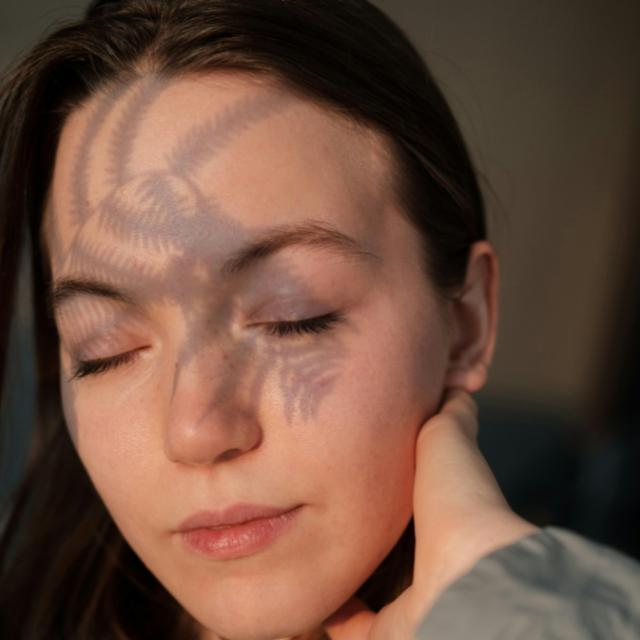close: (220, 210, 388, 362), (43, 258, 161, 409)
